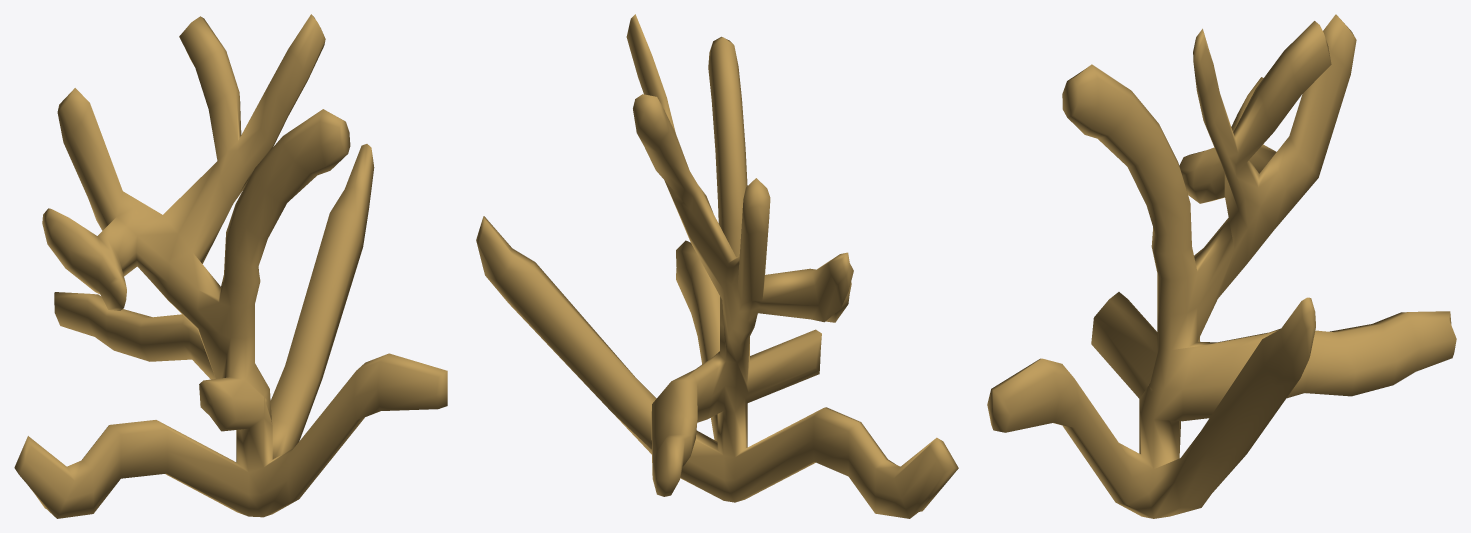
The model's file is SM_smallBranchCoral.fbx.
The picture shows the model from 3 angles, left to right: view 1: azimuth 30°, elevation 25°; view 2: azimuth 150°, elevation 25°; view 3: azimuth 270°, elevation 25°; orthographic projection. The views are drawn at different scales.
Parts seen in each view (by area): view 1: Cube.042; view 2: Cube.042; view 3: Cube.042.
Part boxes in pixels (x1,y1,x2,y2): Cube.042: (14,14,447,518); Cube.042: (476,14,958,518); Cube.042: (987,14,1456,518).
Bounding box in the file's own units: 30.32 × 32.57 × 26.43.
